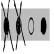correct: (40, 13, 46, 38)
not correct: (1, 0, 14, 54), (13, 0, 26, 52)
